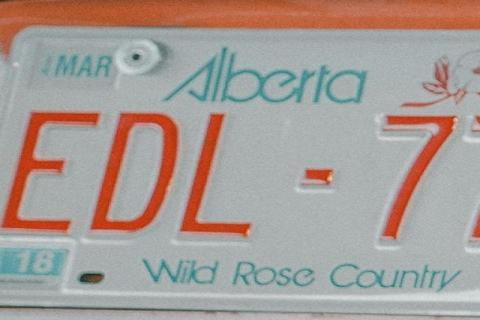LicensePlate: (1, 19, 480, 315)
